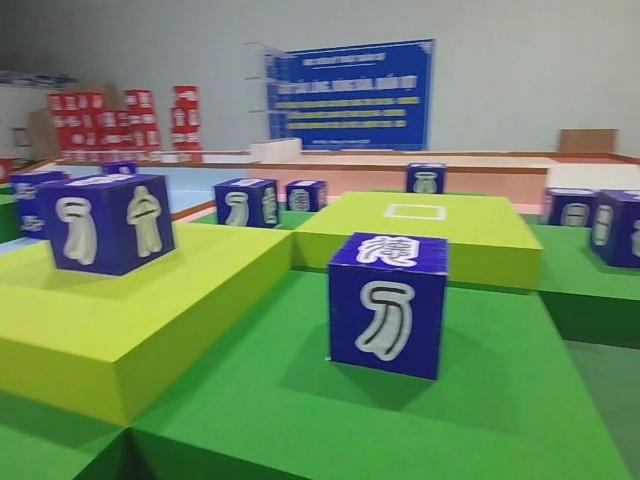R2 Fake Blue: (330, 233, 452, 386), (35, 173, 178, 280), (591, 189, 640, 273), (212, 179, 278, 232), (541, 189, 601, 229), (404, 161, 449, 195), (283, 181, 327, 215)
